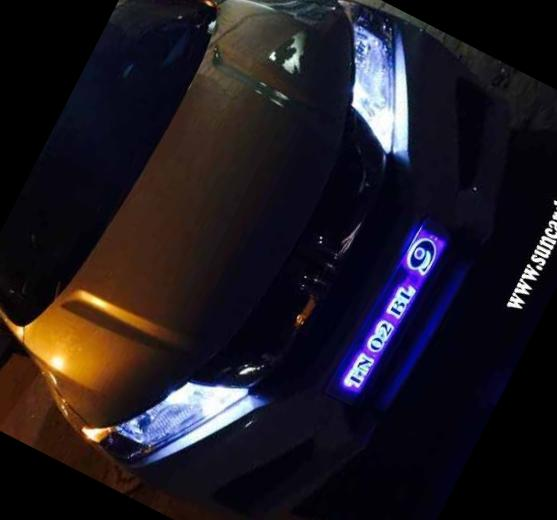plate: (316, 208, 466, 413)
